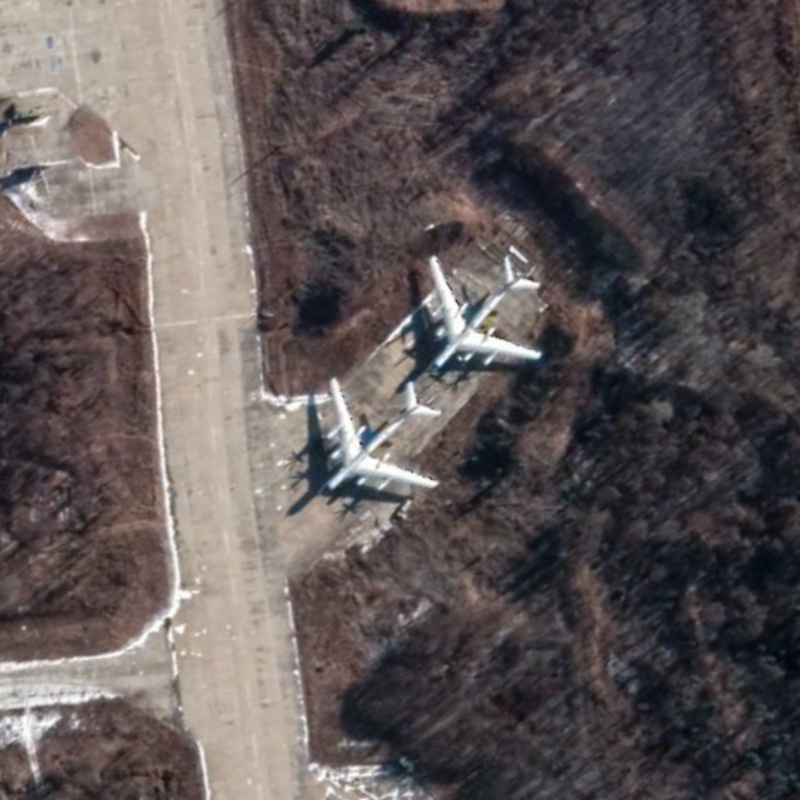A17: (417, 248, 547, 381), (312, 373, 444, 501)
